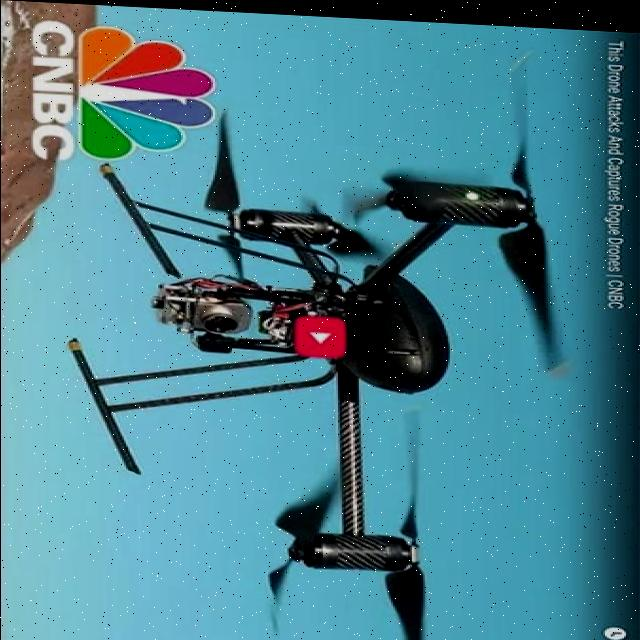drone: (137, 102, 563, 640)
